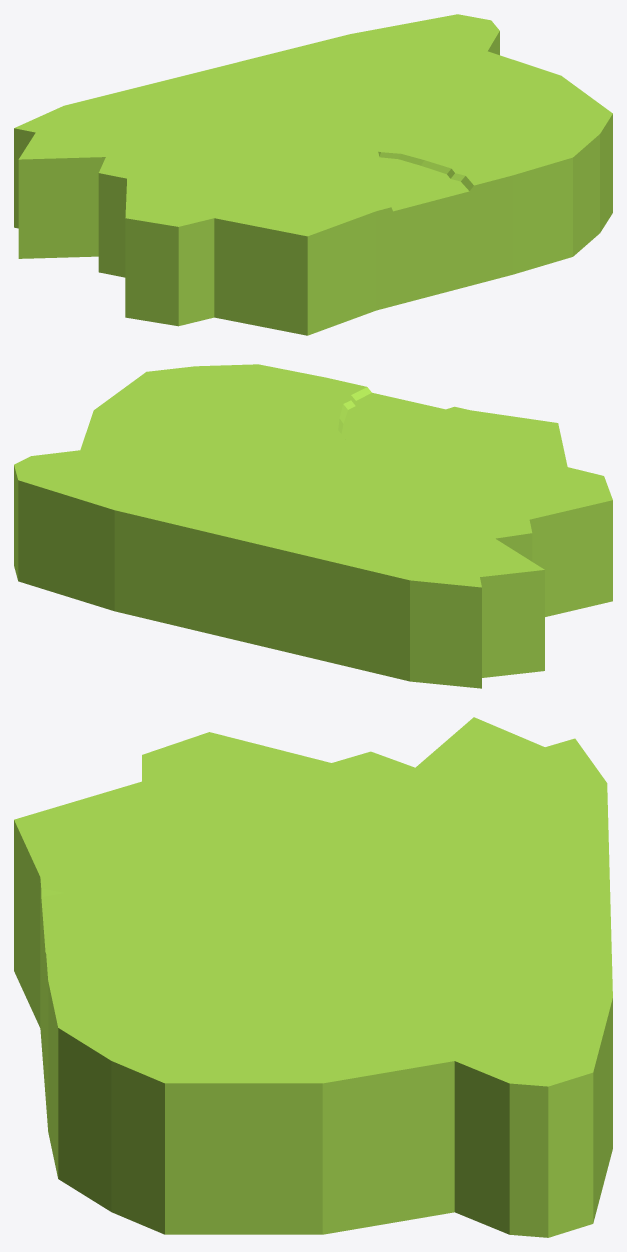
Rendered from motherboard.fbx.
The picture shows the model from 3 angles, top to bottom: view 1: azimuth 30°, elevation 25°; view 2: azimuth 150°, elevation 25°; view 3: azimuth 270°, elevation 25°; orthographic projection. The views are drawn at different scales.
Visible parts, largest first — view 1: 主地板.001; view 2: 主地板.001; view 3: 主地板.001.
Boxes of the visible parts, x1=… form: 主地板.001: x1=14, y1=14, x2=612, y2=335; 主地板.001: x1=14, y1=364, x2=612, y2=688; 主地板.001: x1=14, y1=717, x2=612, y2=1237.
Size of the model in its own units: 8077 by 1542 by 5534.
